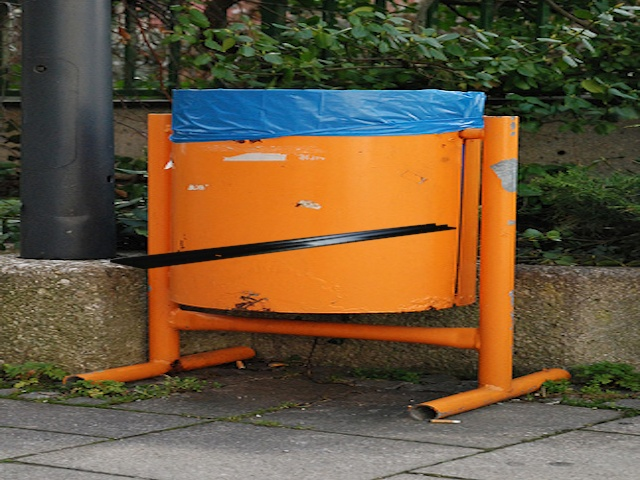ruler: (105, 217, 464, 272)
